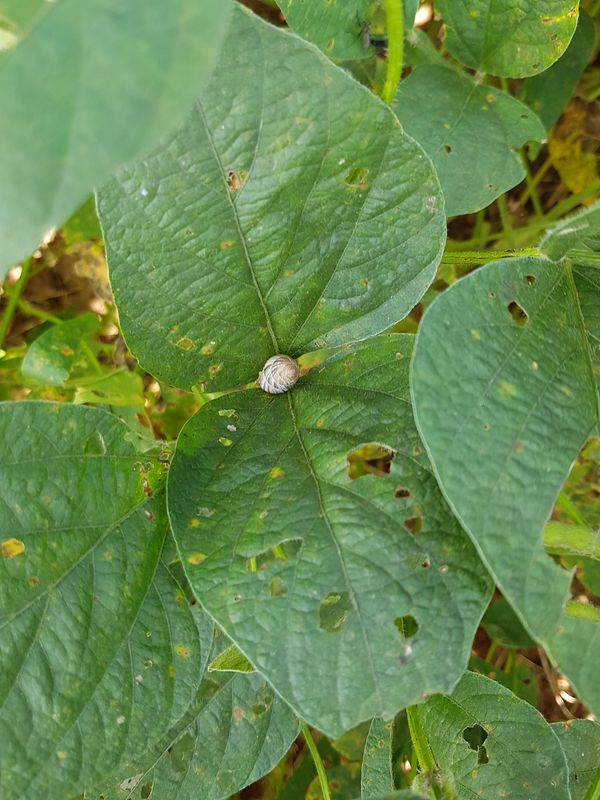Gastropoda: (239, 339, 317, 409)
